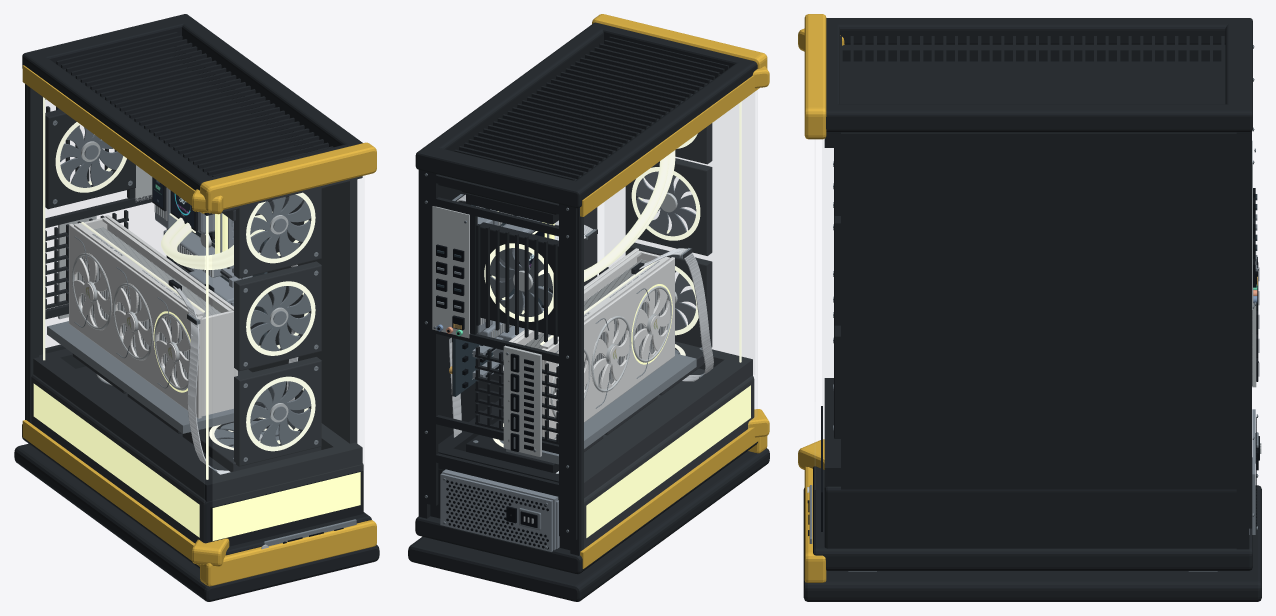
File: showcase92-gold.glb
3 views of the same model, side by side, from view 1: azimuth 30°, elevation 25°; view 2: azimuth 150°, elevation 25°; view 3: azimuth 270°, elevation 25° (orthographic). The views are drawn at different scales.
Visible parts, largest first — view 1: s83-surface-c68be824-7ced-4737-8df1-816e650b5bf5, s83-surface-f81b631f-5621-480c-b53b-a9ed2978ec8d, s83-surface-f2bc39d1-3dea-4d5d-bf3e-d61578aa67d5, s83-fan-12, s83-fan-13, s83-fan-14, s83-fan-11, s83-fan-2, s83-fan-1, s83-fan-3, s83-surface-63fa4c72-a32b-48b1-9a24-3471a6f8a7d1; view 2: s83-surface-c68be824-7ced-4737-8df1-816e650b5bf5, s83-surface-16aaa72e-1187-4b3c-8bfd-228a585db3b1, s83-surface-f81b631f-5621-480c-b53b-a9ed2978ec8d, s83-surface-f2bc39d1-3dea-4d5d-bf3e-d61578aa67d5, s83-fan-13, s83-fan-11, s83-fan-2, s83-fan-3, s83-fan-12; view 3: s83-surface-c68be824-7ced-4737-8df1-816e650b5bf5.
Boxes of the visible parts, box(x1,y1,x2,y2) form: s83-surface-c68be824-7ced-4737-8df1-816e650b5bf5: box(14, 14, 379, 601); s83-surface-f81b631f-5621-480c-b53b-a9ed2978ec8d: box(33, 213, 360, 540); s83-surface-f2bc39d1-3dea-4d5d-bf3e-d61578aa67d5: box(43, 97, 315, 479); s83-fan-12: box(250, 381, 311, 446); s83-fan-13: box(250, 286, 311, 351); s83-fan-14: box(250, 194, 311, 258); s83-fan-11: box(60, 126, 123, 187); s83-fan-2: box(115, 283, 153, 360); s83-fan-1: box(73, 253, 112, 330); s83-fan-3: box(156, 313, 190, 390); s83-surface-63fa4c72-a32b-48b1-9a24-3471a6f8a7d1: box(171, 191, 194, 228); s83-surface-c68be824-7ced-4737-8df1-816e650b5bf5: box(408, 14, 769, 601); s83-surface-16aaa72e-1187-4b3c-8bfd-228a585db3b1: box(604, 92, 755, 375); s83-surface-f81b631f-5621-480c-b53b-a9ed2978ec8d: box(542, 222, 750, 537); s83-surface-f2bc39d1-3dea-4d5d-bf3e-d61578aa67d5: box(484, 101, 741, 447); s83-fan-13: box(636, 171, 696, 236); s83-fan-11: box(490, 248, 552, 316); s83-fan-2: box(591, 317, 629, 392); s83-fan-3: box(632, 287, 670, 362); s83-fan-12: box(675, 270, 696, 330); s83-surface-c68be824-7ced-4737-8df1-816e650b5bf5: box(798, 14, 1261, 601).
Bounding box in the file's own units: 1.37 × 3 × 2.56.
Materials: 23 (22 with a texture image).
